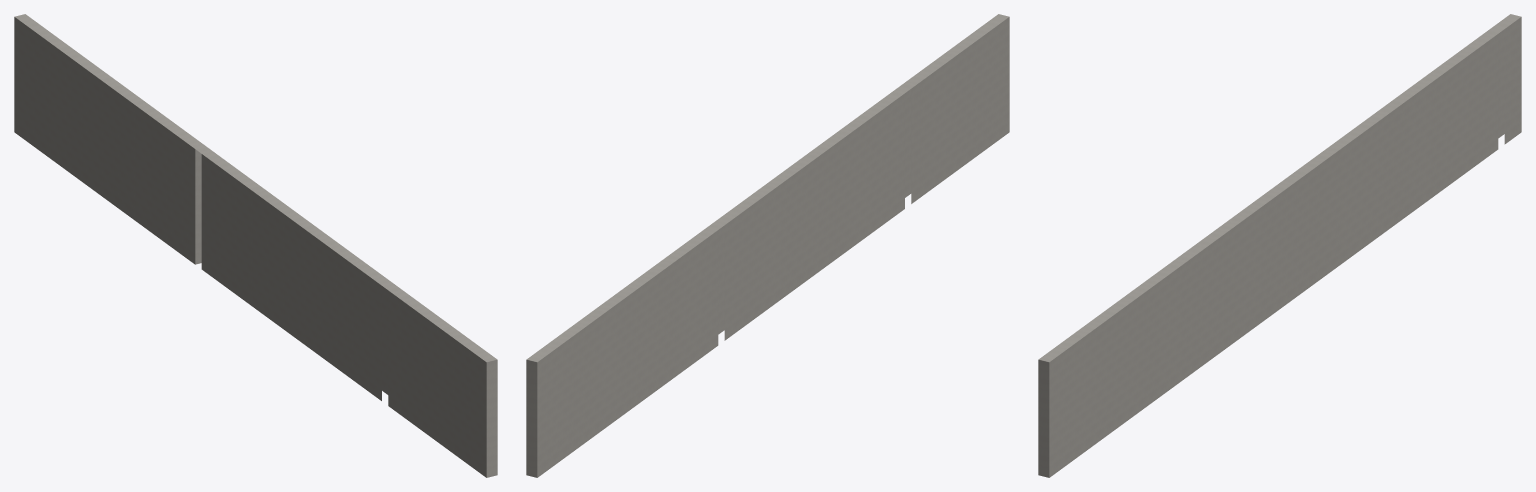
The model's file is WallV.obj.
3 renders of one model, left to right at view 1: azimuth 30°, elevation 25°; view 2: azimuth 150°, elevation 25°; view 3: azimuth 330°, elevation 25°, orthographic.
Parts seen in each view (by area): view 1: Box011; view 2: Box011; view 3: Box011.
Boxes of the visible parts, x1,y1,x2,y2 form: Box011: (14, 14, 497, 477); Box011: (526, 14, 1009, 477); Box011: (1038, 14, 1521, 477).
Bounding box in the file's own units: 11.82 × 118 × 874.
